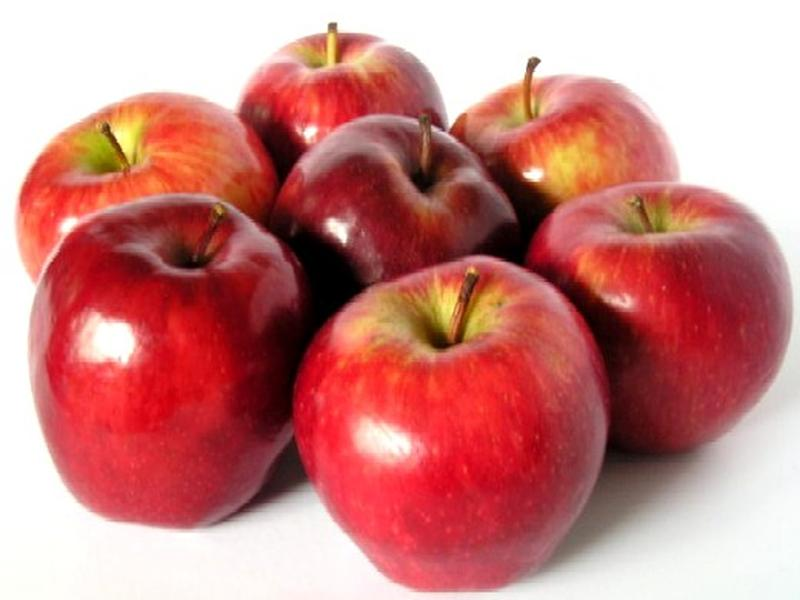apple: (292, 253, 617, 595), (24, 188, 314, 532), (529, 175, 788, 463), (13, 81, 295, 297), (270, 105, 522, 288), (451, 58, 706, 212), (237, 18, 467, 179)
